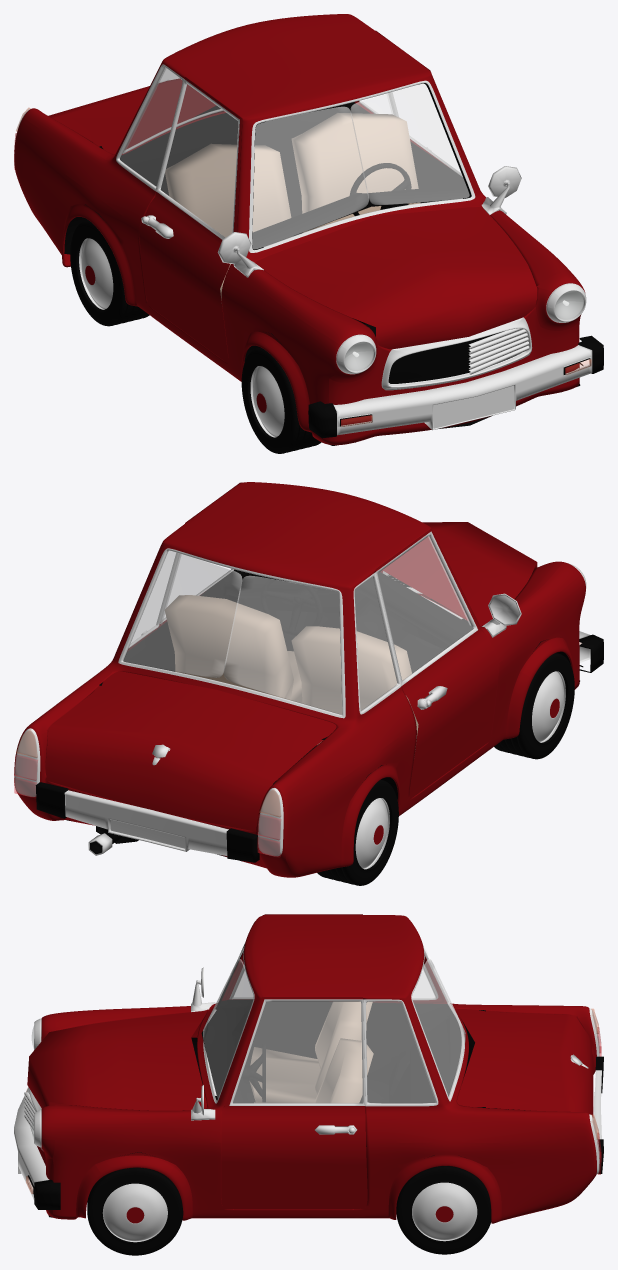
The model's file is cartoonish_toy_car.glb.
The picture shows the model from 3 angles, top to bottom: view 1: azimuth 30°, elevation 25°; view 2: azimuth 150°, elevation 25°; view 3: azimuth 270°, elevation 25°; orthographic projection. The views are drawn at different scales.
Parts seen in each view (by area): view 1: cotxe base_2, vidres_23, cotxe base.002_3, interior.001_12, interior_11, cotxe base.003_4, parachoc_18, cotxe base.005_5, Cylinder.004_9, Cylinder.003_8, miralls_17, matricula_15 (+4 smaller); view 2: cotxe base_2, vidres_23, cotxe base.005_5, interior.001_12, cotxe base.003_4, interior_11, cotxe base.002_3, paraxoc trase_19, Cylinder.004_9, Cylinder.003_8, llums_13, volant_24 (+5 smaller); view 3: cotxe base_2, vidres_23, cotxe base.003_4, cotxe base.002_3, interior_11, cotxe base.005_5, interior.001_12, Cylinder.004_9, Cylinder.003_8, parachoc_18, miralls_17, paraxoc trase_19 (+2 smaller).
Boxes of the visible parts, x1,y1,x2,y2 form: cotxe base_2: (14, 14, 586, 445); vidres_23: (120, 67, 469, 249); cotxe base.002_3: (256, 207, 537, 349); interior.001_12: (165, 113, 420, 303); interior_11: (99, 102, 469, 324); cotxe base.003_4: (138, 30, 462, 364); parachoc_18: (308, 335, 603, 438); cotxe base.005_5: (48, 78, 215, 154); Cylinder.004_9: (241, 347, 321, 453); Cylinder.003_8: (70, 220, 149, 326); miralls_17: (217, 166, 521, 277); matricula_15: (434, 386, 514, 428); cotxe base_2: (14, 482, 586, 877); vidres_23: (123, 536, 473, 714); cotxe base.005_5: (45, 671, 336, 831); interior.001_12: (164, 595, 418, 751); cotxe base.003_4: (157, 482, 499, 800); interior_11: (99, 569, 473, 798); cotxe base.002_3: (382, 522, 537, 625); paraxoc trase_19: (35, 782, 259, 862); Cylinder.004_9: (494, 653, 574, 759); Cylinder.003_8: (317, 779, 398, 885); llums_13: (14, 729, 280, 857); volant_24: (260, 578, 322, 635); cotxe base_2: (29, 914, 599, 1223); vidres_23: (203, 946, 465, 1103); cotxe base.003_4: (221, 914, 367, 1209); cotxe base.002_3: (27, 1011, 207, 1110); interior_11: (191, 999, 485, 1146); cotxe base.005_5: (457, 1009, 593, 1117); interior.001_12: (249, 1001, 373, 1103); Cylinder.004_9: (87, 1167, 183, 1255); Cylinder.003_8: (396, 1166, 491, 1254); parachoc_18: (14, 1087, 60, 1209); miralls_17: (191, 967, 215, 1120); paraxoc trase_19: (593, 1056, 603, 1173).
Size of the model in its own units: 4.01 by 3.5 by 7.57.
